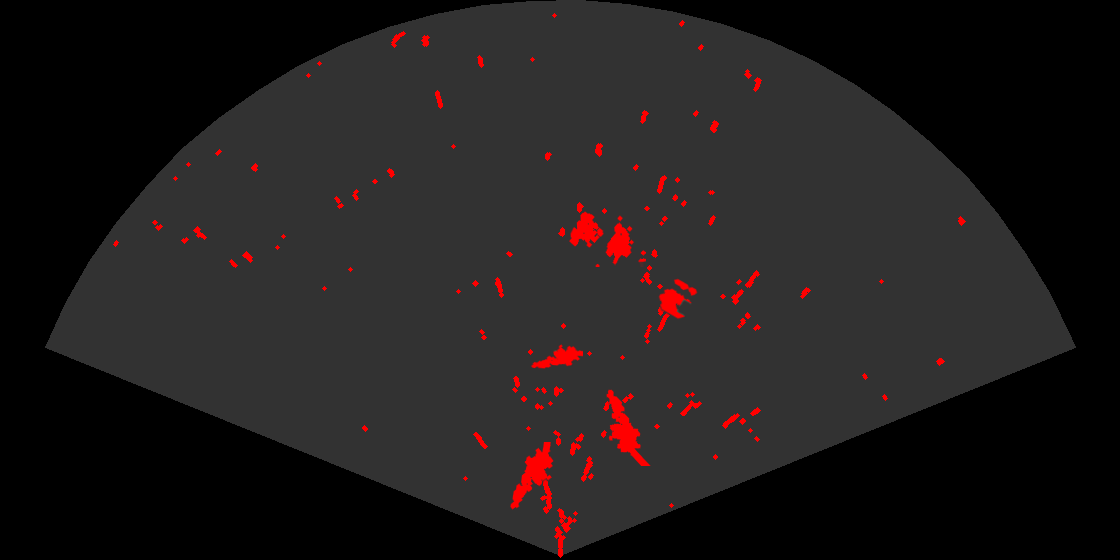ball: (657, 277, 699, 321)
cage: (568, 210, 646, 267)
frogman: (605, 388, 652, 466), (509, 442, 555, 511), (530, 343, 583, 371)
